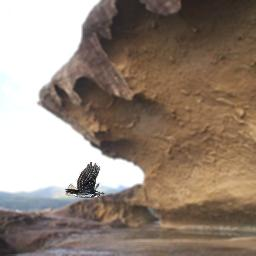Woodpecker: (65, 162, 105, 198)
